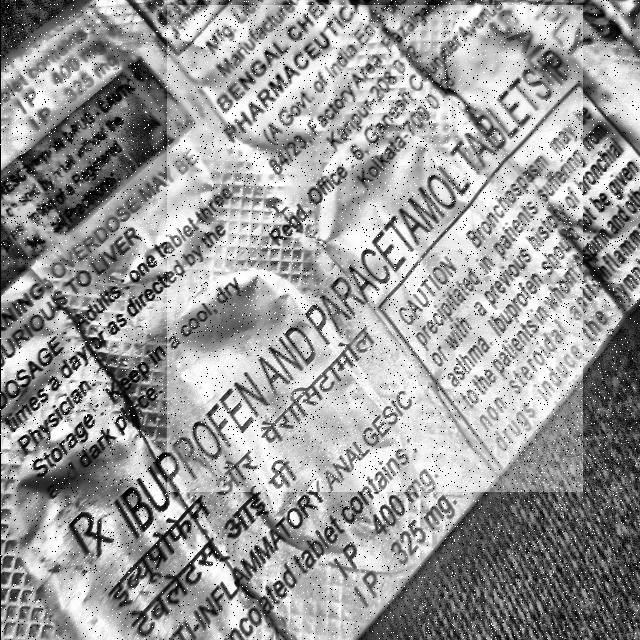IBUPROFEN AND PARACETAMOL TABLETS: (167, 6, 581, 492)
